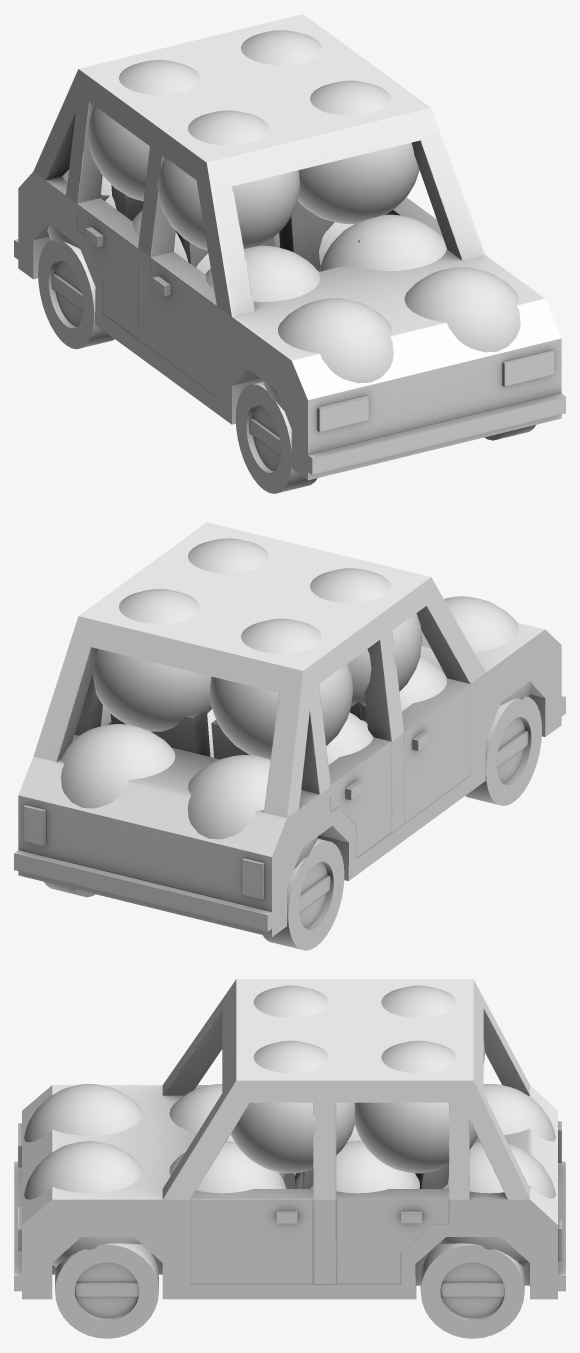
Rendered from car2.glb.
3 renders of one model, top to bottom at view 1: azimuth 30°, elevation 25°; view 2: azimuth 150°, elevation 25°; view 3: azimuth 270°, elevation 25°, orthographic. The views are drawn at different scales.
Visible parts, largest first — view 1: body, Sphere.001, Sphere.002, door_2, Sphere.003, Sphere, Sphere.007, door_4, Sphere.010, wheel_rr, wheel_fr, Sphere.011 (+2 smaller); view 2: body, Sphere.004, Sphere.007, door_2, Sphere.005, Sphere.006, door_4, wheel_fr, wheel_rr, Sphere.002, Sphere.003, Sphere.001 (+2 smaller); view 3: body, door_1, wheel_rl, wheel_fl, door_3, Sphere.004, Sphere.001, Sphere, Sphere.003, Sphere.005, Sphere.008, Sphere.010 (+4 smaller).
Boxes of the visible parts, <box> form: body: <box>14,14,565,480</box>; Sphere.001: <box>297,80,419,224</box>; Sphere.002: <box>157,110,299,250</box>; door_2: <box>150,251,216,396</box>; Sphere.003: <box>263,298,393,410</box>; Sphere: <box>404,267,520,368</box>; Sphere.007: <box>88,60,199,201</box>; door_4: <box>77,198,139,339</box>; Sphere.010: <box>319,214,446,271</box>; wheel_rr: <box>38,239,114,349</box>; wheel_fr: <box>235,381,317,493</box>; Sphere.011: <box>205,245,320,301</box>; body: <box>14,522,565,937</box>; Sphere.004: <box>92,589,212,731</box>; Sphere.007: <box>209,618,352,759</box>; door_2: <box>402,678,470,823</box>; Sphere.005: <box>61,724,175,808</box>; Sphere.006: <box>187,755,316,869</box>; door_4: <box>328,737,391,857</box>; wheel_fr: <box>465,696,541,805</box>; wheel_rr: <box>263,838,344,950</box>; Sphere.002: <box>310,568,421,706</box>; Sphere.003: <box>421,596,531,705</box>; Sphere.001: <box>188,538,268,573</box>; body: <box>14,979,565,1299</box>; door_1: <box>190,1189,313,1283</box>; wheel_rl: <box>420,1243,524,1338</box>; wheel_fl: <box>55,1243,158,1338</box>; door_3: <box>336,1189,448,1283</box>; Sphere.004: <box>355,1040,477,1173</box>; Sphere.001: <box>230,1040,354,1173</box>; Sphere: <box>24,1141,142,1266</box>; Sphere.003: <box>23,1084,142,1142</box>; Sphere.005: <box>438,1142,555,1266</box>; Sphere.008: <box>293,1141,419,1193</box>; Sphere.010: <box>169,1141,286,1193</box>.
Size of what is drawn, in the model's own units: 1.28 by 1.31 by 2.49.
2 materials, 2 textured.
